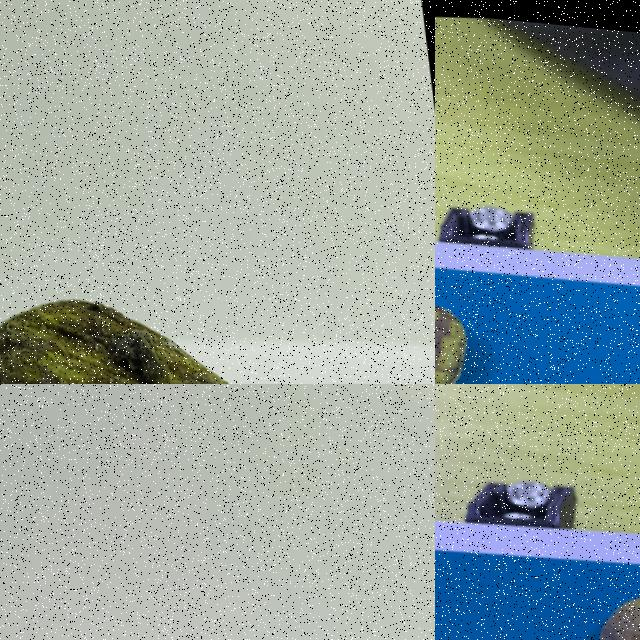Agglomerated_cocoabeans: (0, 238, 355, 383)
Fine_cocoabeans: (484, 553, 639, 639), (435, 271, 547, 383)
